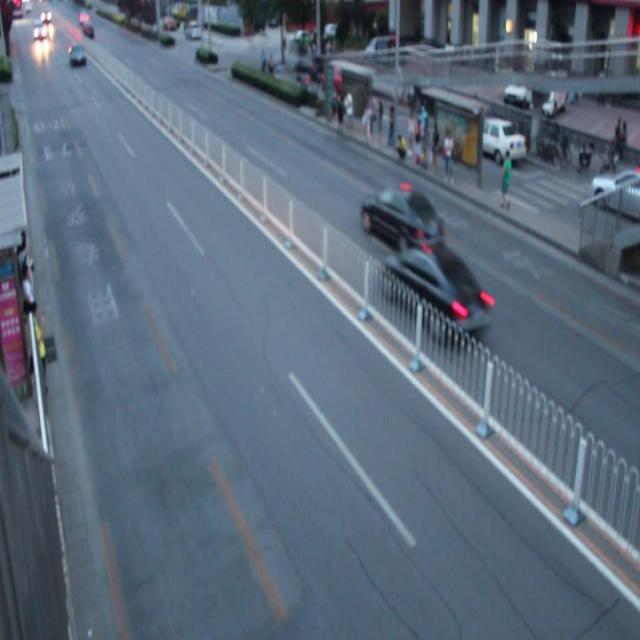car: (378, 242, 494, 339), (362, 186, 446, 256)
